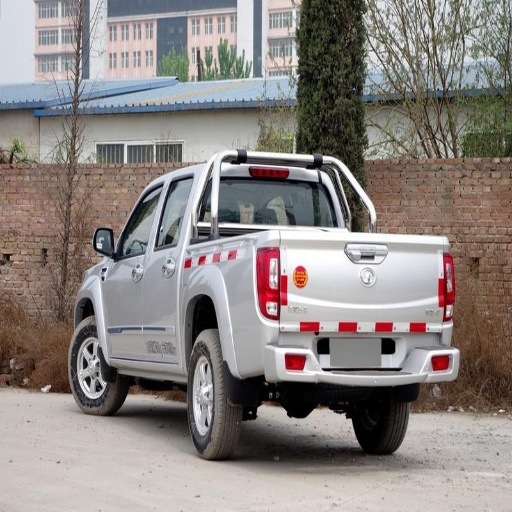back_bumper: (253, 338, 452, 385)
back_glass: (222, 179, 334, 225)
back_left_door: (144, 183, 185, 329)
trunk: (155, 229, 445, 375)
